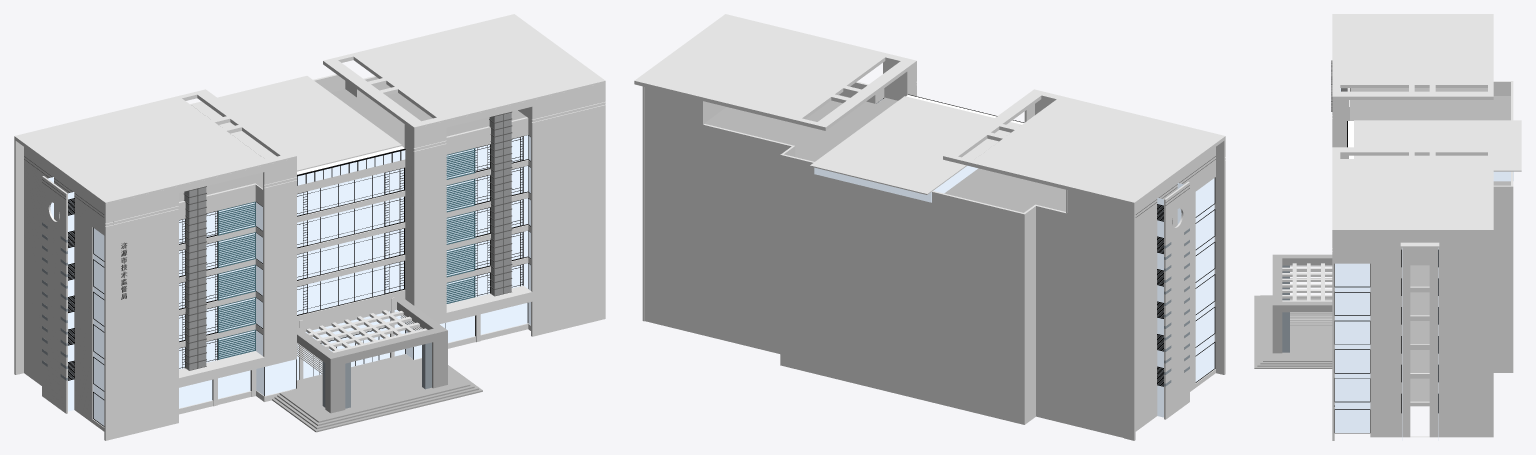
3 renders of one model, left to right at view 1: azimuth 30°, elevation 25°; view 2: azimuth 150°, elevation 25°; view 3: azimuth 270°, elevation 25°, orthographic. The views are drawn at different scales.
Parts seen in each view (by area): view 1: Line03, Line138, Rectangle542, Rectangle507, Rectangle30, Rectangle352, Rectangle33, Rectangle428, Rectangle39, Rectangle62, Rectangle74, Rectangle96 (+37 smaller); view 2: Line21, Rectangle542, Rectangle507, Rectangle352, Rectangle33, Line23, Rectangle62, Rectangle70, Line03, Rectangle04, Rectangle07, Rectangle485 (+5 smaller); view 3: Rectangle471, Rectangle507, Rectangle542, Rectangle483, Rectangle352, Line21, Line23, Rectangle74, Rectangle90, Rectangle28, Rectangle239, Rectangle49 (+11 smaller).
Boxes of the visible parts, x1,y1,x2,y2 form: Line03: (104,157,296,440); Line138: (413,82,605,336); Rectangle542: (15,89,296,205); Rectangle507: (323,14,605,128); Rectangle30: (296,168,404,380); Rectangle352: (190,76,401,171); Rectangle33: (24,147,104,422); Rectangle428: (446,135,530,303); Rectangle39: (179,202,262,369); Rectangle62: (42,176,67,413); Rectangle74: (279,354,470,422); Rectangle96: (297,159,405,329); Line21: (645,110,1123,437); Rectangle542: (943,89,1225,205); Rectangle507: (634,14,916,130); Rectangle352: (810,96,1021,194); Rectangle33: (1124,147,1215,431); Line23: (704,95,1065,212); Rectangle62: (1164,181,1189,419); Rectangle70: (1195,178,1214,381); Line03: (1035,99,1225,374); Rectangle04: (1124,199,1135,440); Rectangle07: (814,95,1023,202); Rectangle485: (645,87,704,124); Rectangle471: (1334,233,1493,437); Rectangle507: (1332,147,1493,233); Rectangle542: (1332,14,1493,99); Rectangle483: (1335,263,1370,432); Rectangle352: (1354,120,1521,171); Line21: (1493,81,1513,372); Line23: (1350,88,1510,185); Rectangle74: (1263,295,1332,361); Rectangle90: (1272,258,1282,353); Rectangle28: (1334,98,1348,147); Rectangle239: (1272,301,1332,312); Rectangle49: (1272,254,1332,265).
Size of what is drawn, in the model's own units: 58.23 by 26.4 by 30.32.
